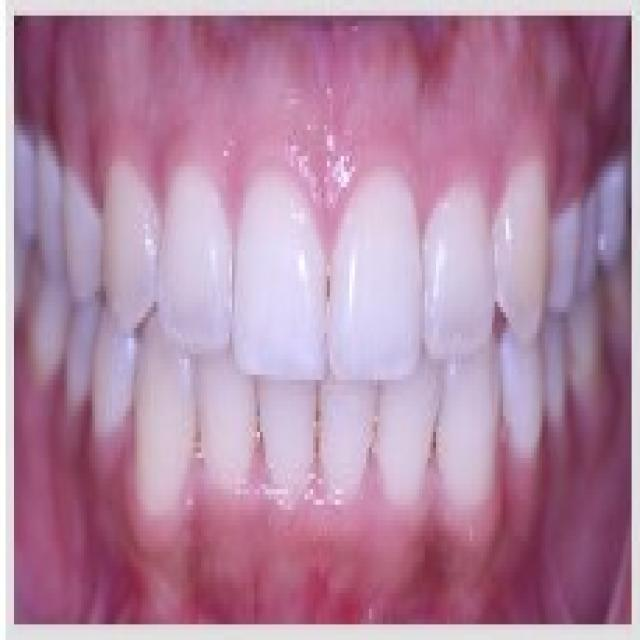tooth: (229, 172, 327, 390), (335, 167, 425, 396), (416, 182, 495, 359), (173, 151, 235, 364), (193, 344, 265, 494), (374, 380, 444, 520), (263, 370, 327, 520), (137, 364, 207, 500), (104, 161, 160, 312), (489, 182, 548, 323), (492, 328, 550, 463), (444, 374, 495, 526), (324, 369, 372, 510), (62, 166, 104, 281), (95, 317, 134, 432), (548, 208, 584, 318)
